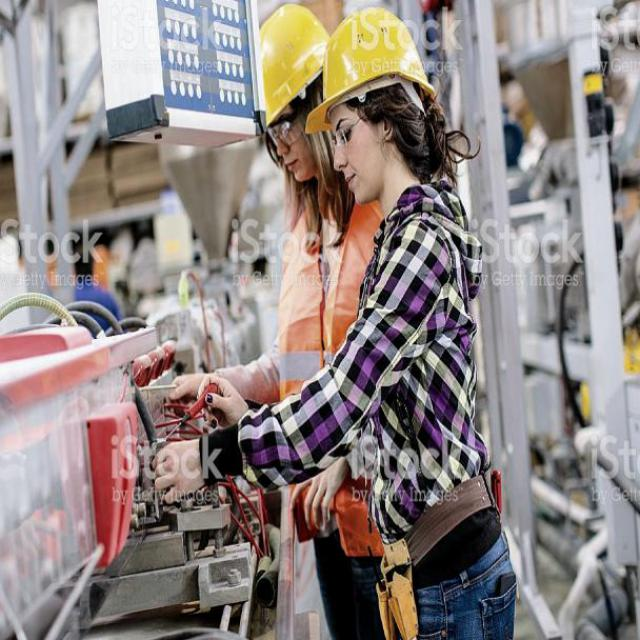helmet: (324, 7, 444, 195), (247, 0, 321, 193)
vest: (256, 202, 364, 362)
